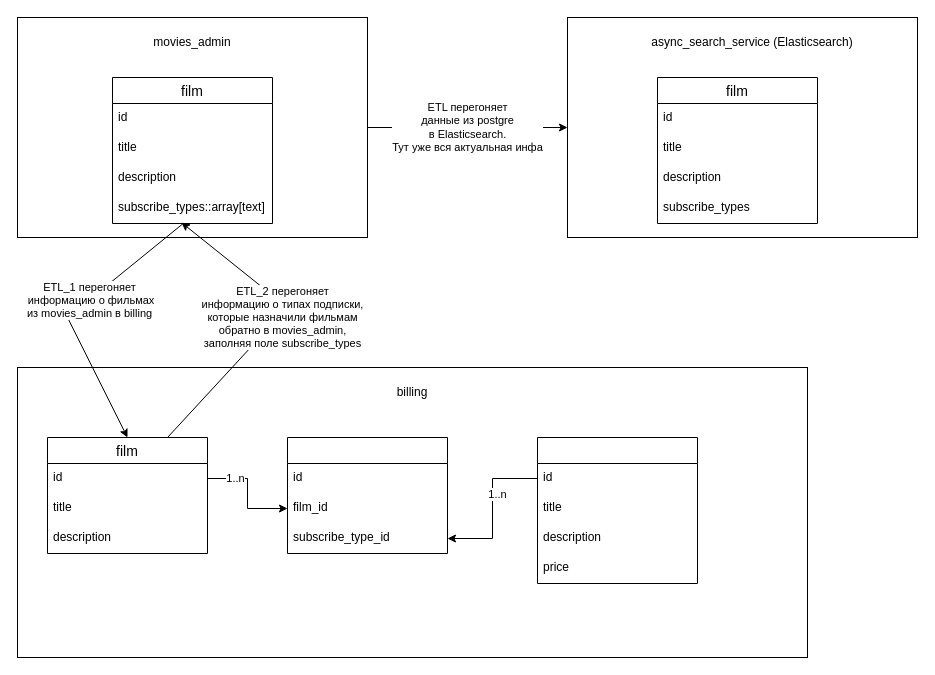
Some shapes in this 935 by 675 pixel diagram are drawn without their labels. Here are the shapes that lost their labels. From the top down, the box of each, then its label:
(286, 436, 448, 554): film_subscribe
(536, 436, 698, 584): subscribe_type
